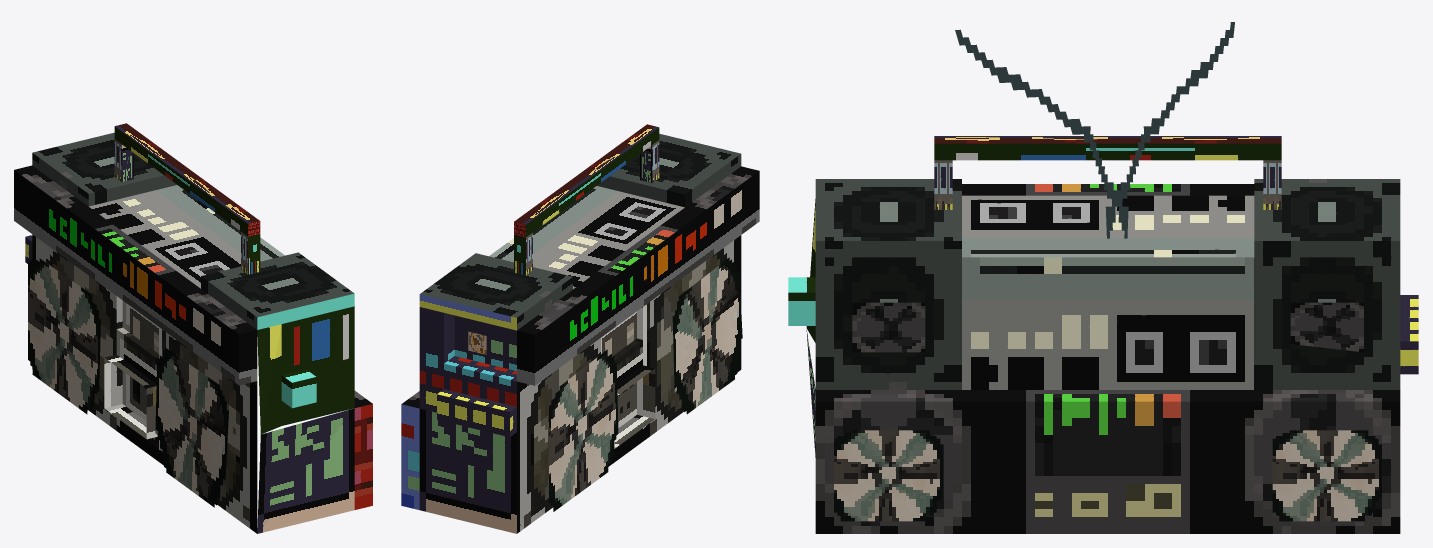
The model's file is boombox.gltf.
3 renders of one model, left to right at view 1: azimuth 30°, elevation 25°; view 2: azimuth 150°, elevation 25°; view 3: azimuth 270°, elevation 25°, orthographic. The views are drawn at different scales.
Visible parts, largest first — view 1: boombox; view 2: boombox; view 3: boombox.
Boxes of the visible parts, bbox=[...] form: boombox: bbox=[14, 123, 372, 533]; boombox: bbox=[401, 124, 759, 533]; boombox: bbox=[788, 22, 1418, 533].
Bounding box in the file's own units: 1.44 × 3.75 × 4.31.
1 material, 1 textured.
